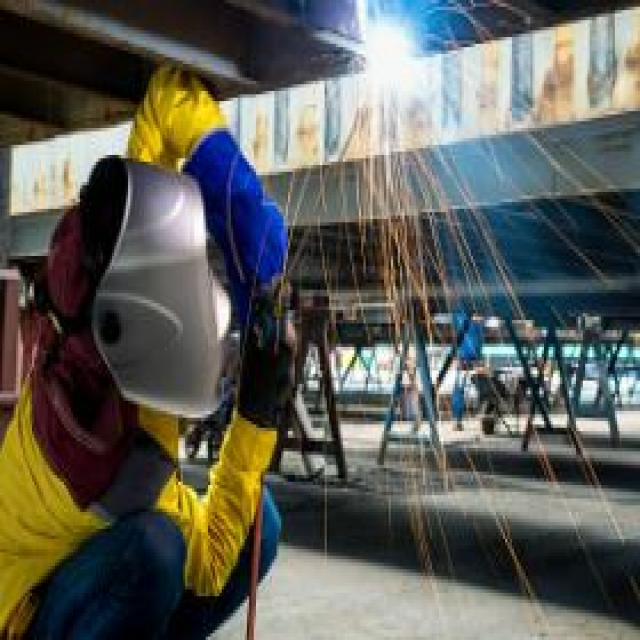welding: (372, 24, 412, 80)
